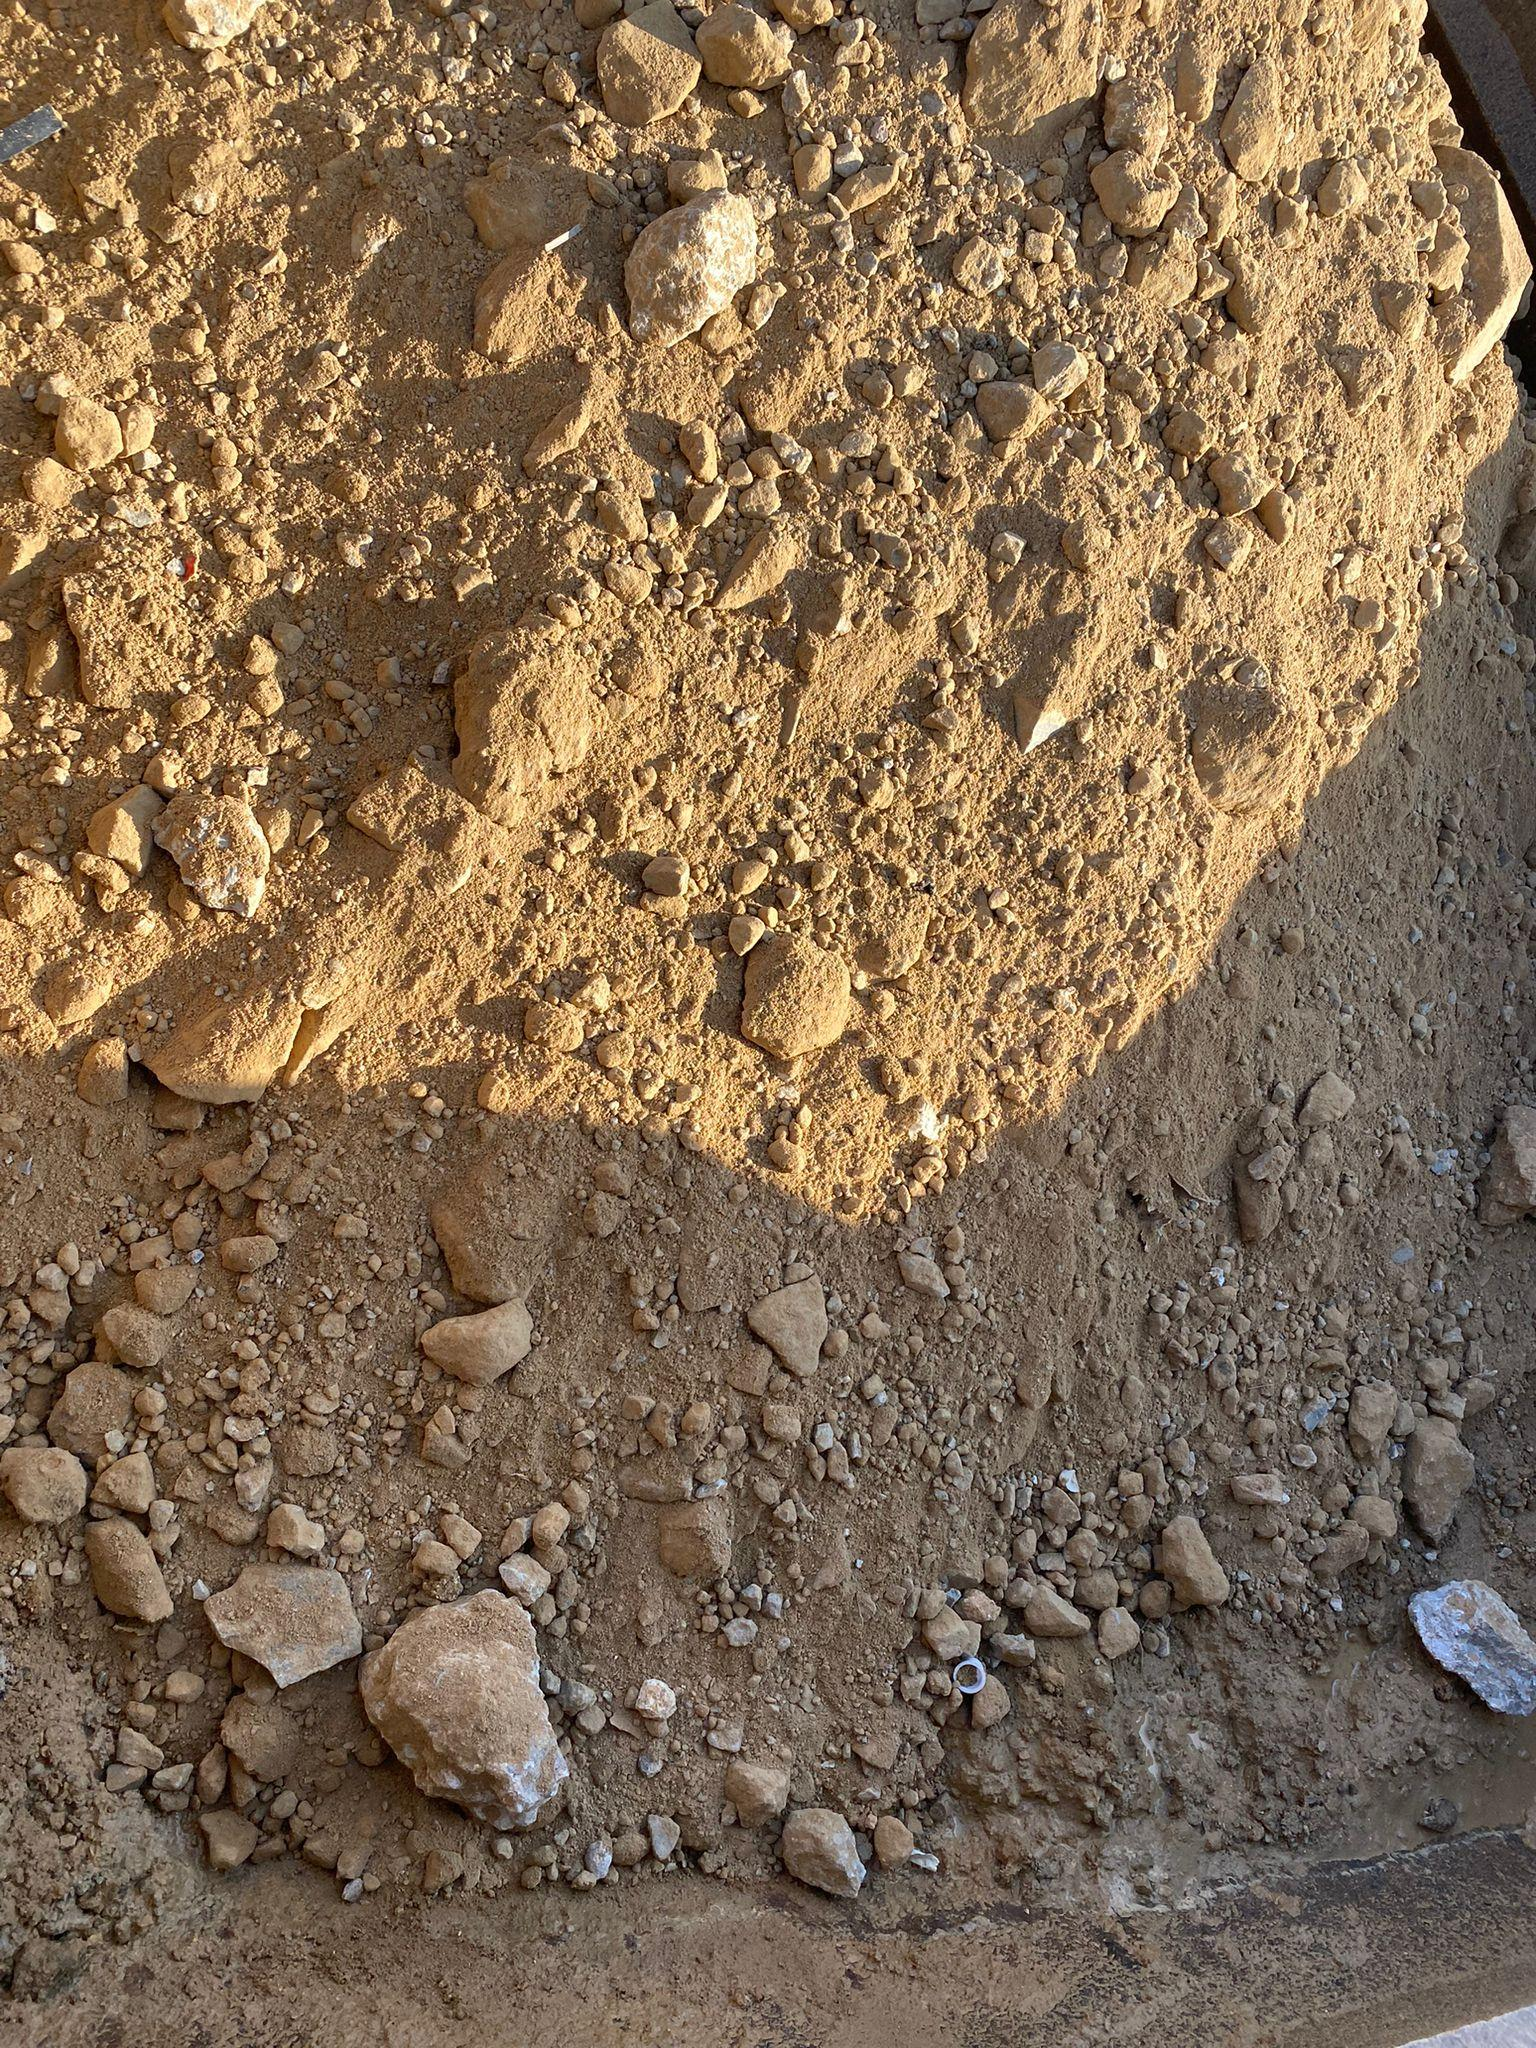dirt: (2, 2, 1533, 2042)
stone: (357, 1587, 571, 1834), (623, 189, 758, 347), (202, 1559, 363, 1688), (1405, 1576, 1534, 1716), (737, 930, 850, 1058), (594, 3, 702, 126), (418, 1295, 532, 1384), (745, 1276, 829, 1376), (778, 1806, 866, 1898)
